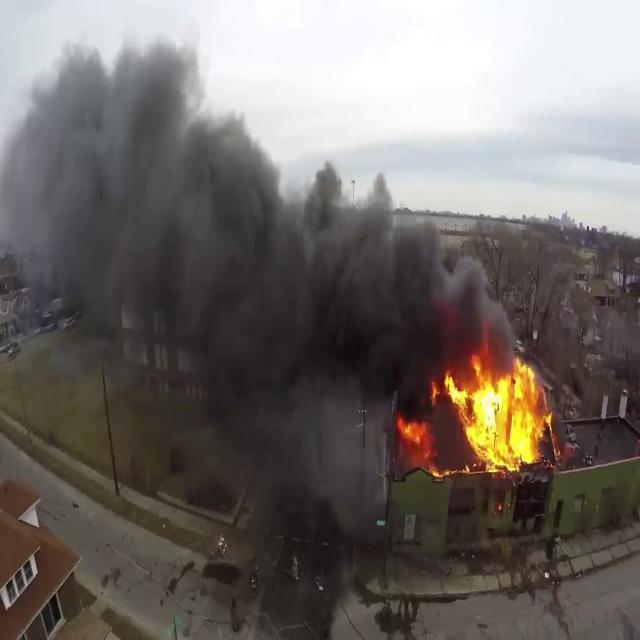Fire: (434, 350, 556, 477)
Smoke: (1, 24, 486, 522)
